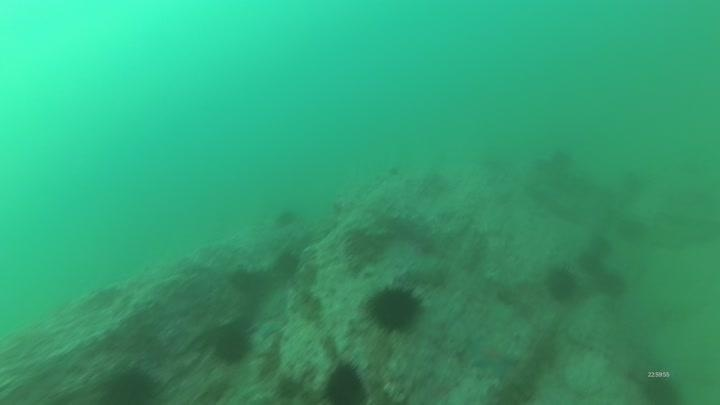echinus: (363, 281, 426, 335), (100, 363, 163, 404), (321, 359, 369, 404), (211, 322, 254, 366), (637, 370, 683, 403), (543, 264, 580, 304), (594, 267, 630, 300), (227, 265, 260, 295), (272, 248, 302, 279), (576, 248, 605, 276), (273, 207, 299, 229)
starfish: (465, 333, 520, 379), (252, 314, 287, 342)
